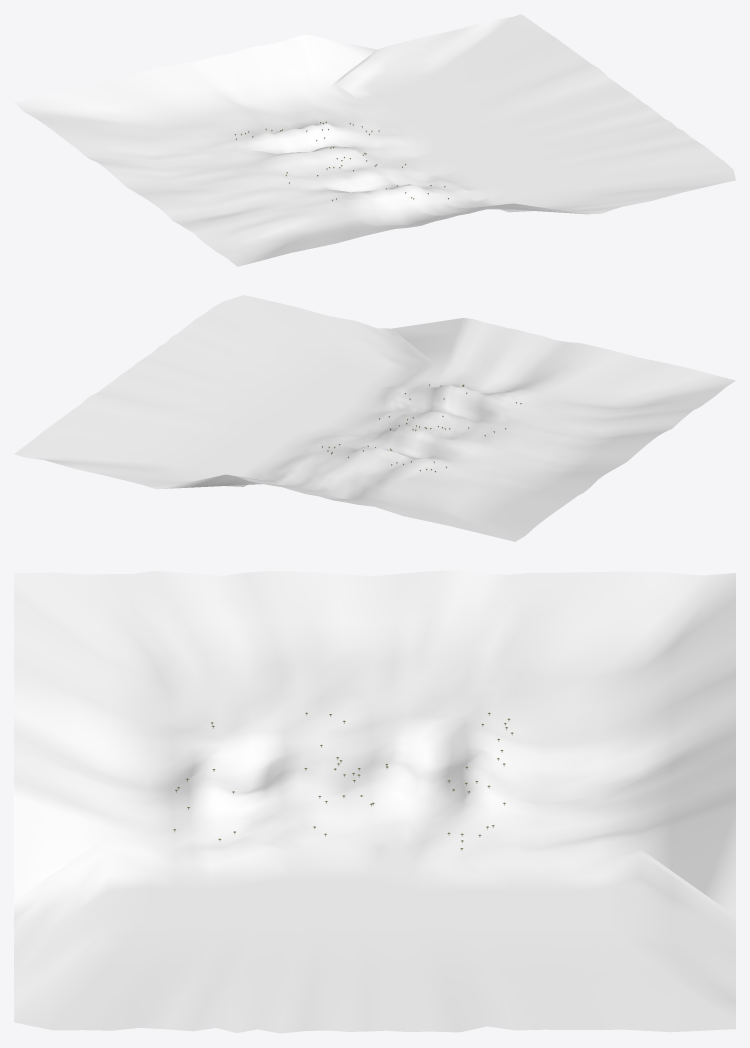
The model's file is coast.gltf.
The picture shows the model from 3 angles, top to bottom: view 1: azimuth 30°, elevation 25°; view 2: azimuth 150°, elevation 25°; view 3: azimuth 270°, elevation 25°; orthographic projection. The views are drawn at different scales.
Parts seen in each view (by area): view 1: beach01.ihq.sprite; view 2: beach01.ihq.sprite; view 3: beach01.ihq.sprite.
Part boxes in pixels (x1,y1,x2,y2): beach01.ihq.sprite: (14, 14, 735, 266); beach01.ihq.sprite: (14, 295, 735, 541); beach01.ihq.sprite: (14, 570, 735, 1033).
Bounding box in the file's own units: 980 × 77.07 × 746.
Materials: 8 (1 with a texture image).
